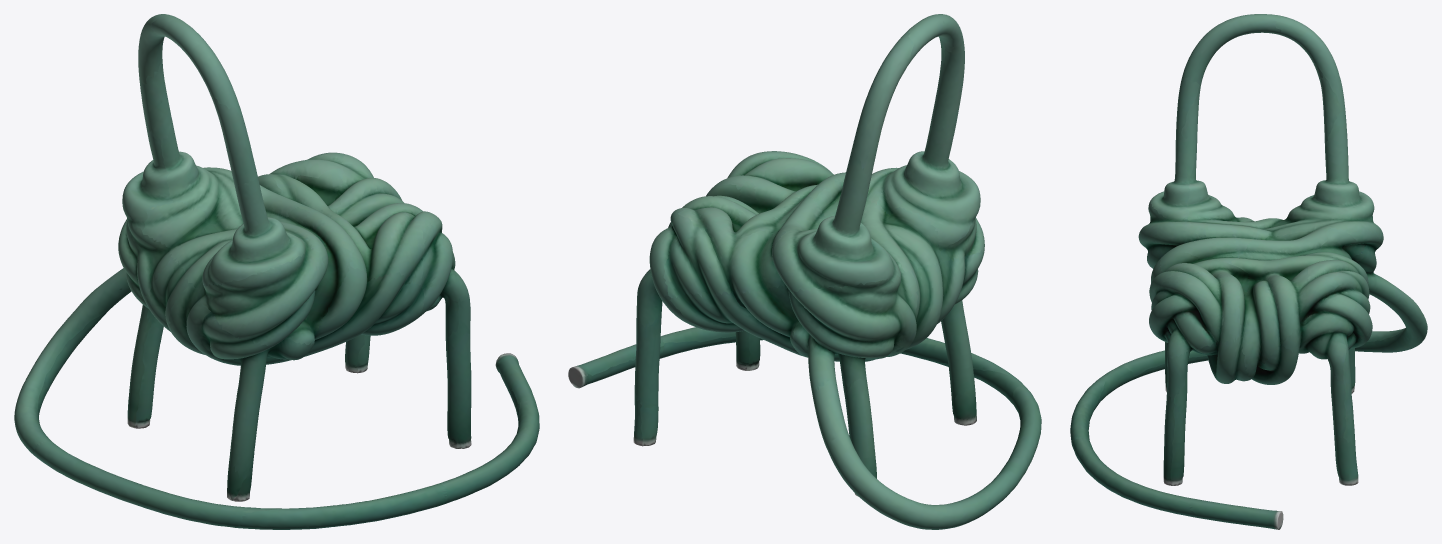
File: 03_2_gj_knt_chair-opt-v12.glb
3 views of the same model, side by side, from view 1: azimuth 30°, elevation 25°; view 2: azimuth 150°, elevation 25°; view 3: azimuth 270°, elevation 25° (orthographic). The views are drawn at different scales.
Visible parts, largest first — view 1: tripo_node_794970d1-e5ba-45bd-acff-d5d437baa164; view 2: tripo_node_794970d1-e5ba-45bd-acff-d5d437baa164; view 3: tripo_node_794970d1-e5ba-45bd-acff-d5d437baa164.
Boxes of the visible parts, x1,y1,x2,y2 form: tripo_node_794970d1-e5ba-45bd-acff-d5d437baa164: (14, 14, 539, 529); tripo_node_794970d1-e5ba-45bd-acff-d5d437baa164: (568, 14, 1041, 529); tripo_node_794970d1-e5ba-45bd-acff-d5d437baa164: (1070, 14, 1427, 529).
Size of the model in its own units: 0.9688 by 0.9004 by 0.7792.
1 material, 1 textured.
